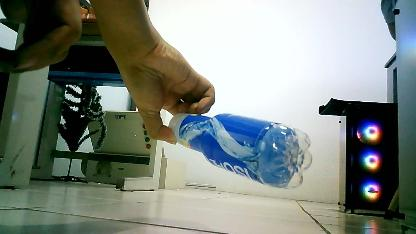Plastic Bottle: (154, 102, 320, 196)
